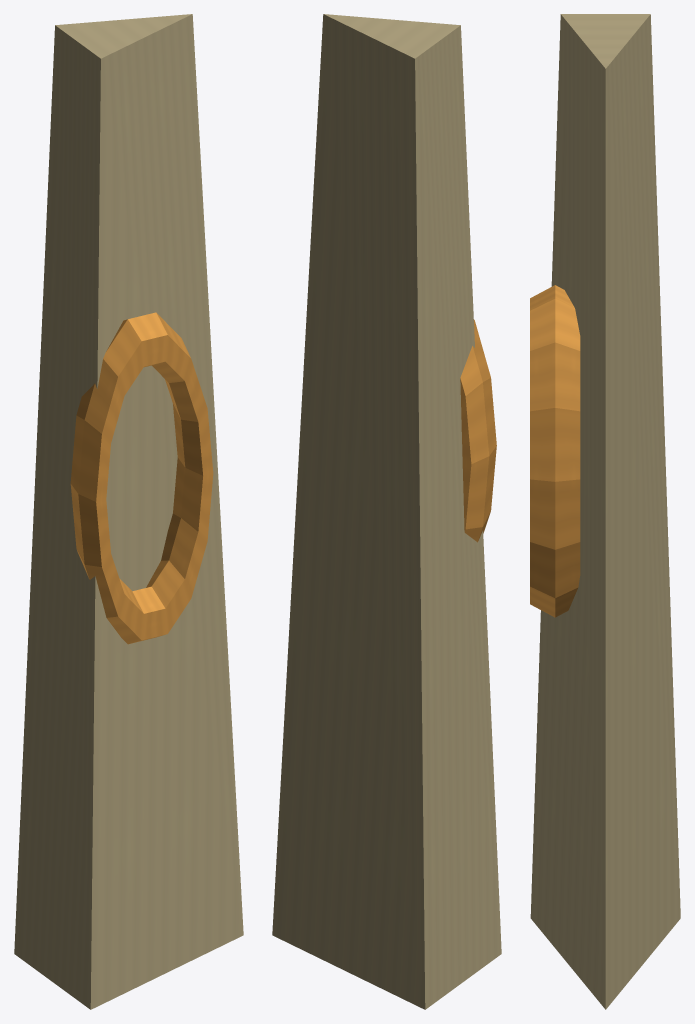
File: atlas100-s015-a05.lod1.glb
3 renders of one model, left to right at view 1: azimuth 30°, elevation 25°; view 2: azimuth 150°, elevation 25°; view 3: azimuth 270°, elevation 25°, orthographic.
Visible parts, largest first — view 1: atlas100-s015-a05:part-000, atlas100-s015-a05:part-001; view 2: atlas100-s015-a05:part-000, atlas100-s015-a05:part-001; view 3: atlas100-s015-a05:part-000, atlas100-s015-a05:part-001.
Boxes of the visible parts, x1=… form: atlas100-s015-a05:part-000: x1=14, y1=14, x2=243, y2=1009; atlas100-s015-a05:part-001: x1=70, y1=312, x2=213, y2=644; atlas100-s015-a05:part-000: x1=272, y1=14, x2=501, y2=1009; atlas100-s015-a05:part-001: x1=460, y1=319, x2=496, y2=542; atlas100-s015-a05:part-000: x1=530, y1=14, x2=680, y2=1009; atlas100-s015-a05:part-001: x1=530, y1=285, x2=580, y2=617.
Bounding box in the file's own units: 0.1638 × 0.7644 × 0.1139.
Materials: 2 (2 with a texture image).
